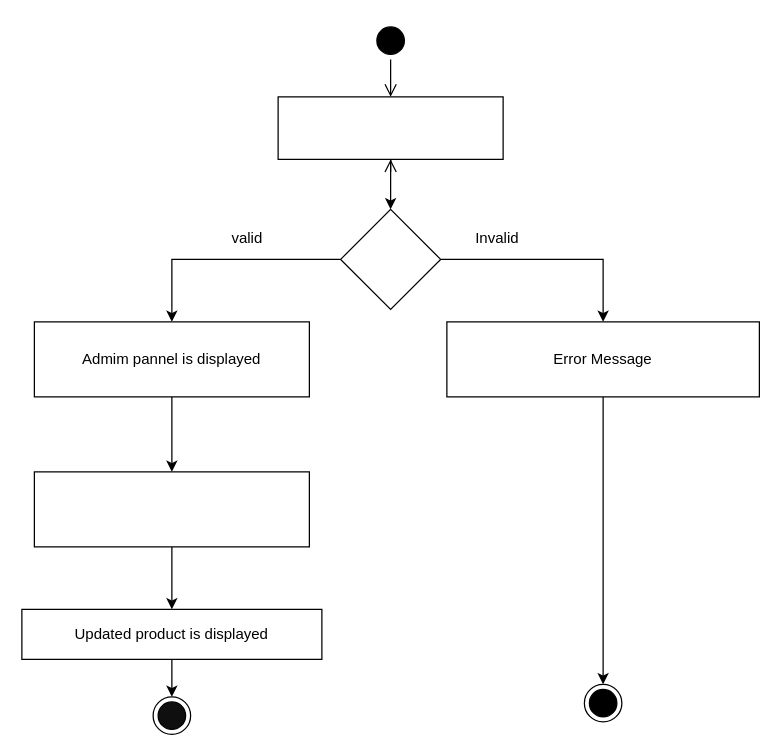
Image size: 781x756. Some labels were removed from this diagram. The shapes that lost their labels are listed below. From the top down, each one's centre as x and y in pixels, then its label:
(x=390, y=127): Enter Admin ID and Password
(x=171, y=509): Admin can add,delete and update the product
